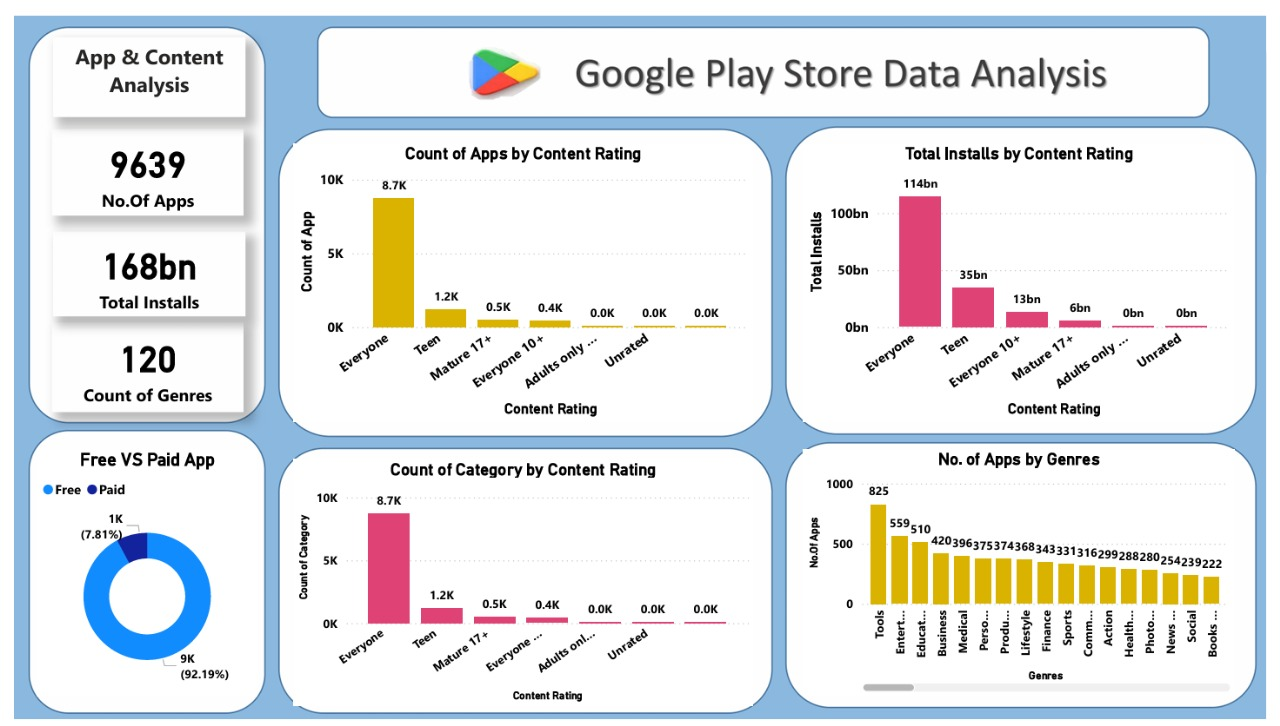

The page's visual inventory and layout, read from the dashboard file:
{"tool":"powerbi","page":{"name":"App&Content","canvas":[1280,720],"ordinal":3},"visuals":[{"type":"card","fields":{"Values":["googleplaystore.Total Installs"]},"box":[39.3,219.6,196.3,87.1],"z":0},{"type":"card","fields":{"Values":["googleplaystore.No.Of Apps"]},"box":[38,115.3,196.3,88.3],"z":1000},{"type":"donutChart","title":"Free VS Paid App","fields":{"Y":["googleplaystore.No.Of Apps"],"Category":["googleplaystore.Type"]},"box":[23.3,442.9,224.5,252.8],"z":2000},{"type":"clusteredColumnChart","title":"Count of Apps by Content Rating","fields":{"Category":["googleplaystore.Content Rating"],"Y":["CountNonNull(googleplaystore.App)"]},"box":[284.7,130.1,469.9,284.7],"z":3000},{"type":"clusteredColumnChart","fields":{"Category":["googleplaystore.Content Rating"],"Y":["CountNonNull(googleplaystore.Category)"]},"box":[284.7,452.8,469.9,252.8],"z":4000},{"type":"clusteredColumnChart","fields":{"Category":["googleplaystore.Content Rating"],"Y":["googleplaystore.Total Installs"]},"box":[806.1,130.1,440.5,284.7],"z":5000},{"type":"columnChart","title":"No. of Apps by Genres","fields":{"Y":["googleplaystore.No.Of Apps"],"Category":["googleplaystore.Genres"]},"box":[806.1,442.9,440.5,252.8],"z":6000},{"type":"textbox","box":[39.3,20.9,196.3,82.2],"z":7000},{"type":"card","fields":{"Values":["Count(googleplaystore.Genres)"]},"box":[38,312.9,196.3,92],"z":7001}]}

Visuals, with their boxes in screenshot pixels (x1, y1, x2, y2), scaled from the page's 1280x720 canvas onto the 1280x726 screenshot:
card - googleplaystore.Total Installs: pyautogui.locateOnScreen(39, 221, 236, 309)
card - googleplaystore.No.Of Apps: pyautogui.locateOnScreen(38, 116, 234, 205)
"Free VS Paid App" donutChart: pyautogui.locateOnScreen(23, 447, 248, 701)
"Count of Apps by Content Rating" clusteredColumnChart: pyautogui.locateOnScreen(285, 131, 755, 418)
clusteredColumnChart - googleplaystore.Content Rating x CountNonNull(googleplaystore.Category): pyautogui.locateOnScreen(285, 457, 755, 711)
clusteredColumnChart - googleplaystore.Content Rating x googleplaystore.Total Installs: pyautogui.locateOnScreen(806, 131, 1247, 418)
"No. of Apps by Genres" columnChart: pyautogui.locateOnScreen(806, 447, 1247, 701)
textbox: pyautogui.locateOnScreen(39, 21, 236, 104)
card - Count(googleplaystore.Genres): pyautogui.locateOnScreen(38, 316, 234, 408)
